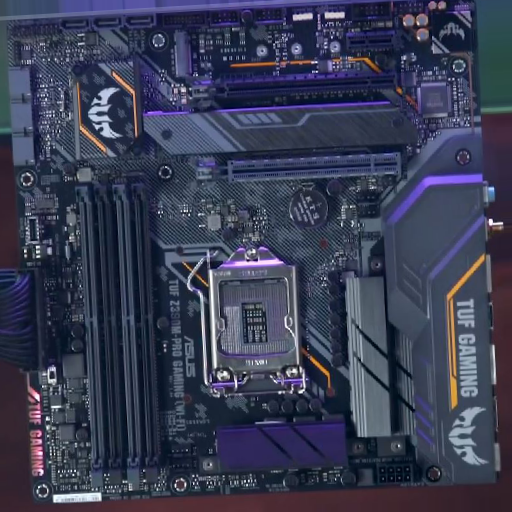CPU: (210, 248, 306, 397)
GPU: (197, 151, 402, 185), (188, 72, 397, 103)
MOTHERBOARD: (10, 2, 475, 505)
RAM: (74, 182, 161, 488)
SSD: (172, 31, 198, 78)
